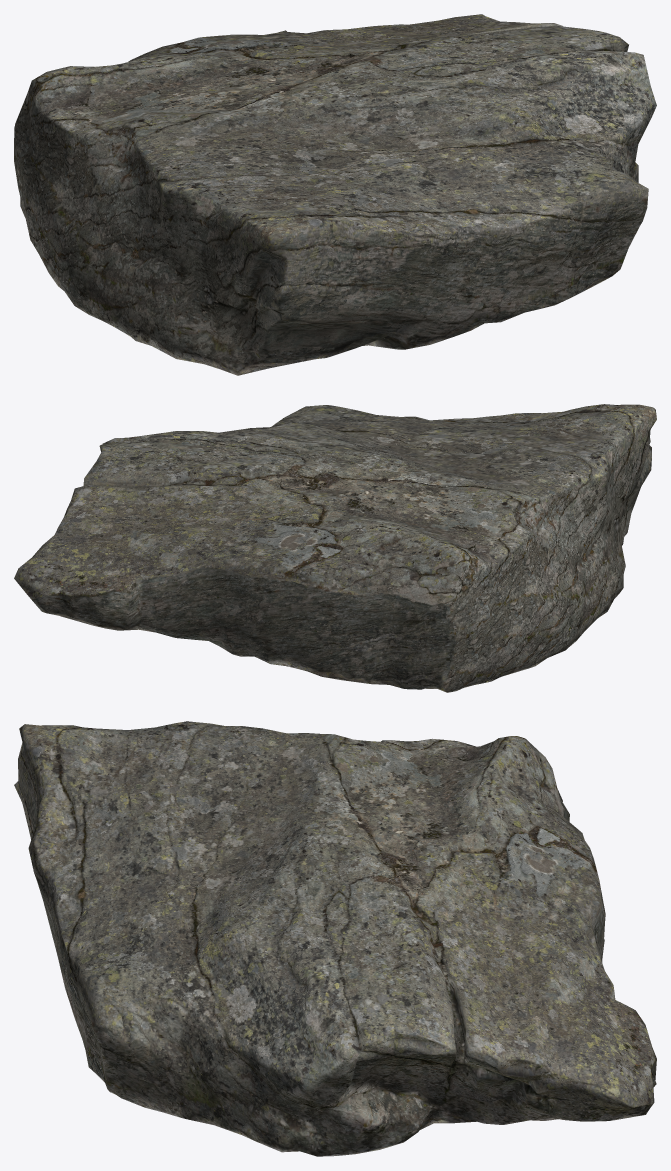
File: vivvbcnaw_tier_2.gltf
The picture shows the model from 3 angles, top to bottom: view 1: azimuth 30°, elevation 25°; view 2: azimuth 150°, elevation 25°; view 3: azimuth 270°, elevation 25°; orthographic projection. The views are drawn at different scales.
Visible parts, largest first — view 1: vivvbcnaw_LOD0_TIER2_000; view 2: vivvbcnaw_LOD0_TIER2_000; view 3: vivvbcnaw_LOD0_TIER2_000.
Boxes of the visible parts, bbox=[...] form: vivvbcnaw_LOD0_TIER2_000: bbox=[14, 14, 656, 375]; vivvbcnaw_LOD0_TIER2_000: bbox=[14, 404, 656, 692]; vivvbcnaw_LOD0_TIER2_000: bbox=[14, 721, 656, 1156].
Bounding box in the file's own units: 3 × 0.9291 × 2.75.
Materials: 1 (1 with a texture image).
